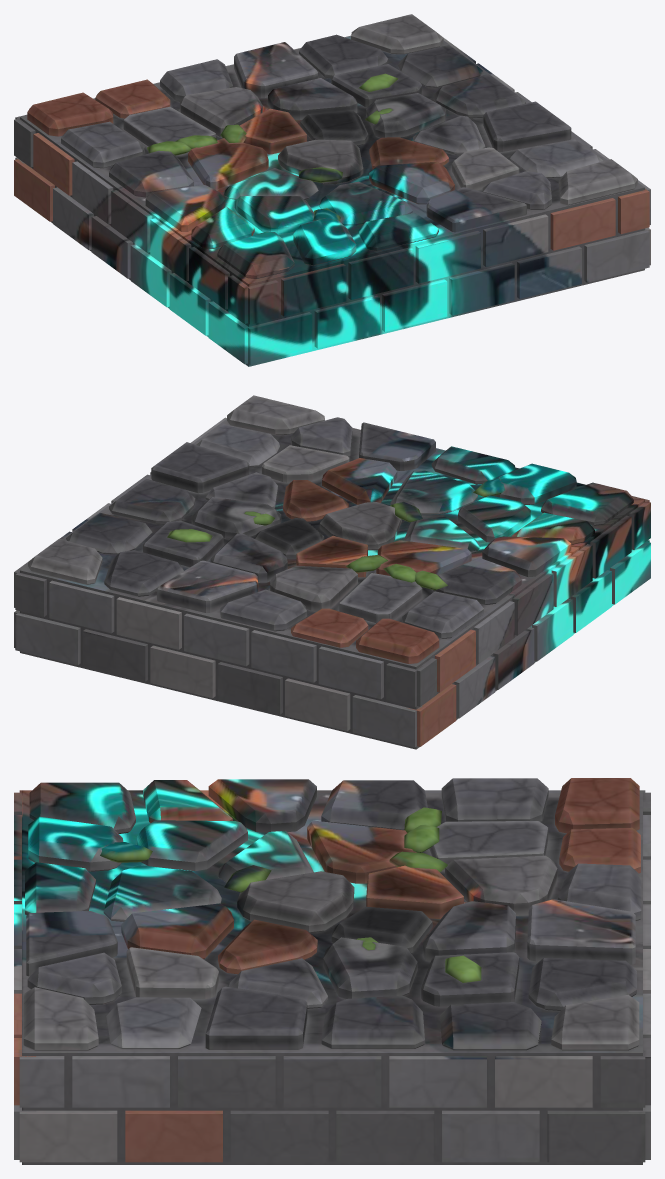
The model's file is dew_plate.glb.
3 renders of one model, top to bottom at view 1: azimuth 30°, elevation 25°; view 2: azimuth 150°, elevation 25°; view 3: azimuth 270°, elevation 25°, orthographic. The views are drawn at different scales.
Parts seen in each view (by area): view 1: dew_plate; view 2: dew_plate; view 3: dew_plate.
Part boxes in pixels (x1,y1,x2,y2): dew_plate: (14,14,650,366); dew_plate: (14,395,650,749); dew_plate: (14,778,650,1164).
Bounding box in the file's own units: 2.01 × 0.464 × 2.01.
Materials: 1 (1 with a texture image).
